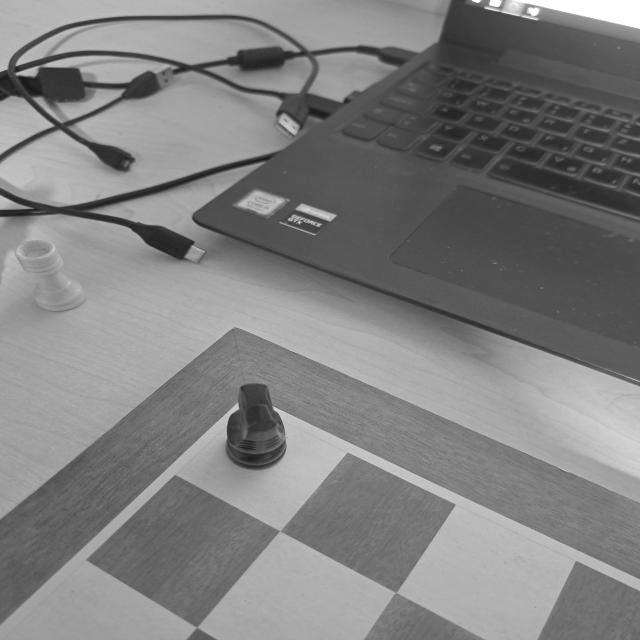chess-table-corners: (198, 385, 314, 437)
